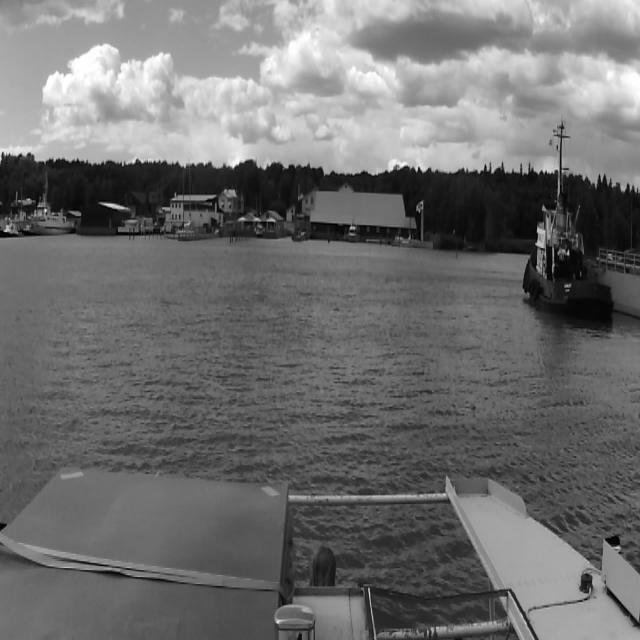buoy: (455, 243, 457, 260)
ship: (522, 114, 616, 330), (164, 163, 186, 240), (392, 212, 418, 248), (348, 221, 358, 243)
